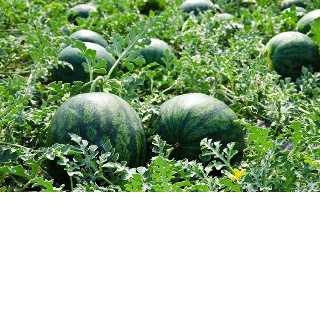dua_hau: (146, 85, 249, 178), (49, 89, 149, 174), (258, 28, 320, 87)
